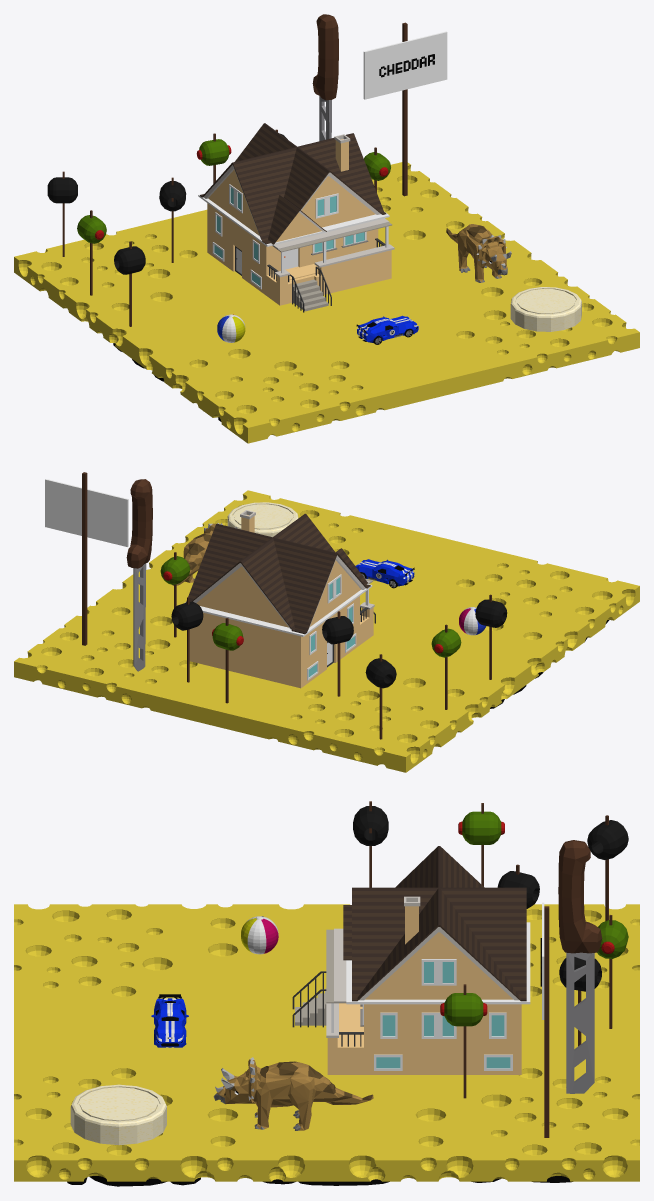
The picture shows the model from 3 angles, top to bottom: view 1: azimuth 30°, elevation 25°; view 2: azimuth 150°, elevation 25°; view 3: azimuth 270°, elevation 25°; orthographic projection. The views are drawn at different scales.
Visible parts, largest first — view 1: Cube.022, Cube.235, Cube.023, Cylinder.016, Cube.024, ANIMAL_Triceratops, VEHICLES_RACING_CAR, Sphere.017, Sphere.016, Sphere.020, Sphere.018, Sphere.022 (+2 smaller); view 2: Cube.022, Cube.235, Cube.023, Cube.024, Cylinder.016, VEHICLES_RACING_CAR, Sphere.020, Sphere.016, Sphere.022, Sphere.017, Sphere.021, ANIMAL_Triceratops (+3 smaller); view 3: Cube.022, Cube.235, Cube.024, ANIMAL_Triceratops, Cylinder.016, Cube.023, VEHICLES_RACING_CAR, Sphere.019, Sphere.016, Sphere.018, Curve.014, Sphere.017 (+4 smaller).
Part boxes in pixels (left/top/right/bottom): Cube.022: left=14, top=162, right=639, bottom=443; Cube.235: left=198, top=123, right=394, bottom=312; Cube.023: left=363, top=22, right=447, bottom=196; Cylinder.016: left=510, top=287, right=581, bottom=331; Cube.024: left=312, top=14, right=338, bottom=141; ANIMAL_Triceratops: left=446, top=224, right=511, bottom=282; VEHICLES_RACING_CAR: left=356, top=315, right=418, bottom=344; Sphere.017: left=114, top=241, right=145, bottom=326; Sphere.016: left=47, top=171, right=77, bottom=256; Sphere.020: left=159, top=177, right=186, bottom=262; Sphere.018: left=77, top=210, right=106, bottom=295; Sphere.022: left=196, top=133, right=231, bottom=183; Cube.022: left=14, top=490, right=639, bottom=772; Cube.235: left=185, top=510, right=375, bottom=688; Cube.023: left=45, top=472, right=128, bottom=645; Cube.024: left=126, top=479, right=152, bottom=671; Cylinder.016: left=227, top=502, right=298, bottom=537; VEHICLES_RACING_CAR: left=355, top=559, right=414, bottom=588; Sphere.020: left=322, top=611, right=353, bottom=696; Sphere.016: left=365, top=654, right=396, bottom=739; Sphere.022: left=212, top=618, right=243, bottom=703; Sphere.017: left=475, top=594, right=507, bottom=679; Sphere.021: left=171, top=597, right=203, bottom=682; ANIMAL_Triceratops: left=172, top=523, right=237, bottom=585; Cube.022: left=14, top=904, right=639, bottom=1181; Cube.235: left=292, top=846, right=530, bottom=1074; Cube.024: left=558, top=840, right=602, bottom=1093; ANIMAL_Triceratops: left=213, top=1057, right=373, bottom=1130; Cylinder.016: left=70, top=1084, right=166, bottom=1145; Cube.023: left=540, top=902, right=549, bottom=1137; VEHICLES_RACING_CAR: left=151, top=994, right=188, bottom=1047; Sphere.019: left=440, top=984, right=487, bottom=1098; Sphere.016: left=587, top=815, right=628, bottom=920; Sphere.018: left=458, top=803, right=504, bottom=886; Curve.014: left=67, top=1176, right=572, bottom=1186; Sphere.017: left=353, top=801, right=388, bottom=887.
Bounding box in the file's own units: 3917 × 1980 × 4000.
39 materials, 3 textured.
